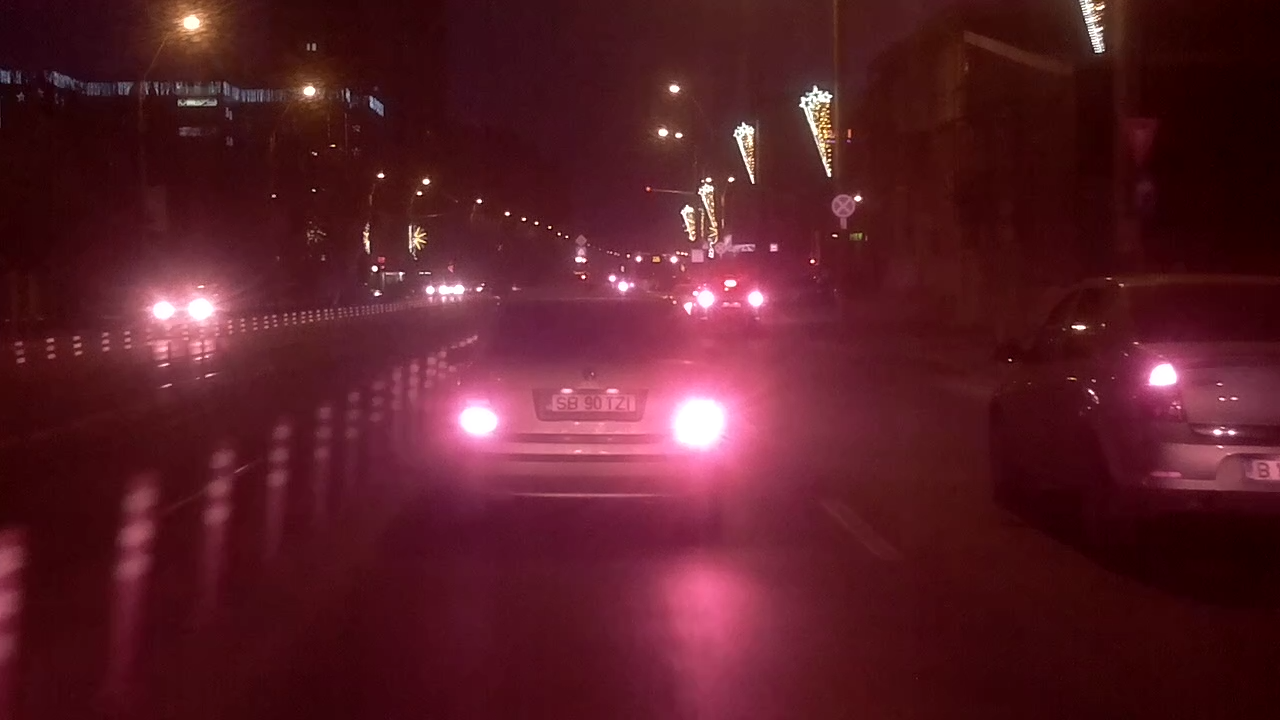license-plate: (540, 391, 640, 416)
